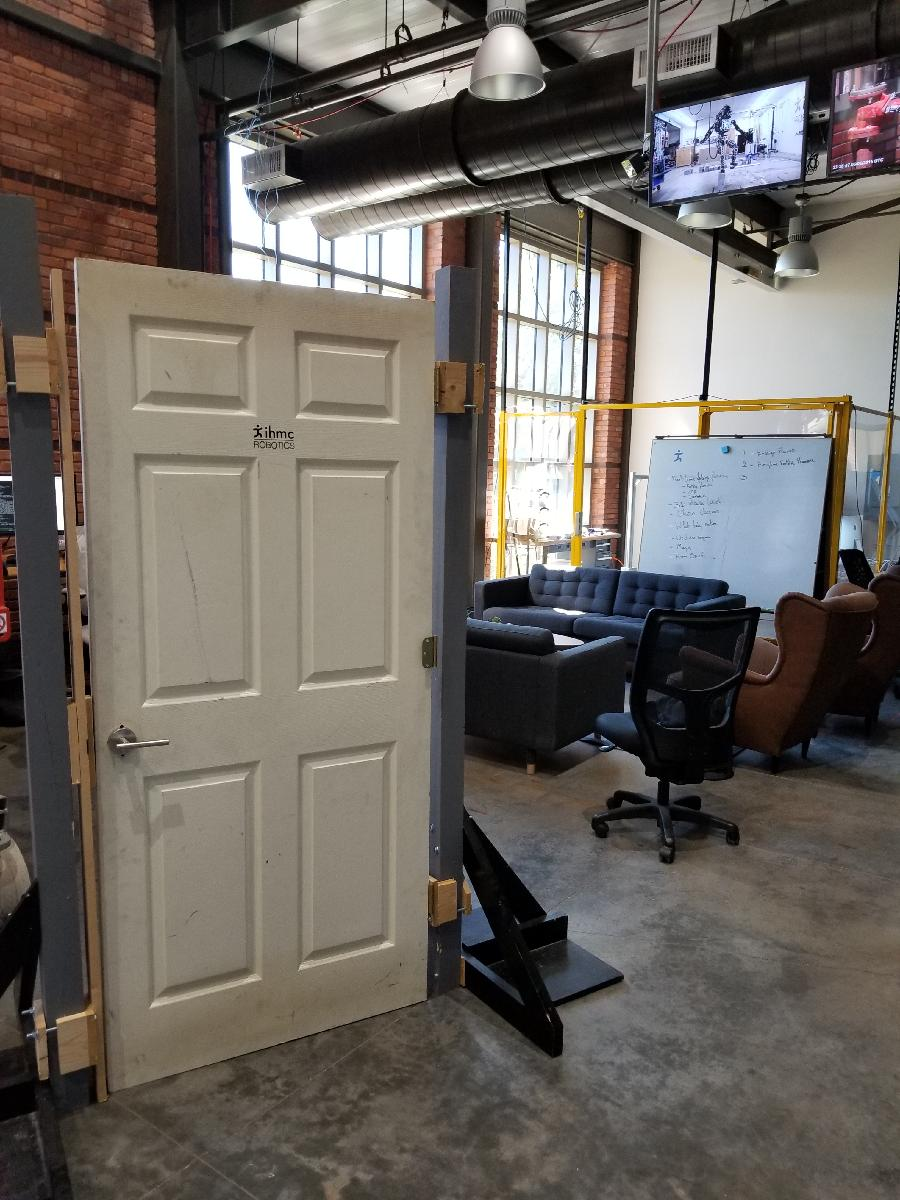door: (67, 254, 441, 1099)
doorHandle: (110, 727, 172, 775)
